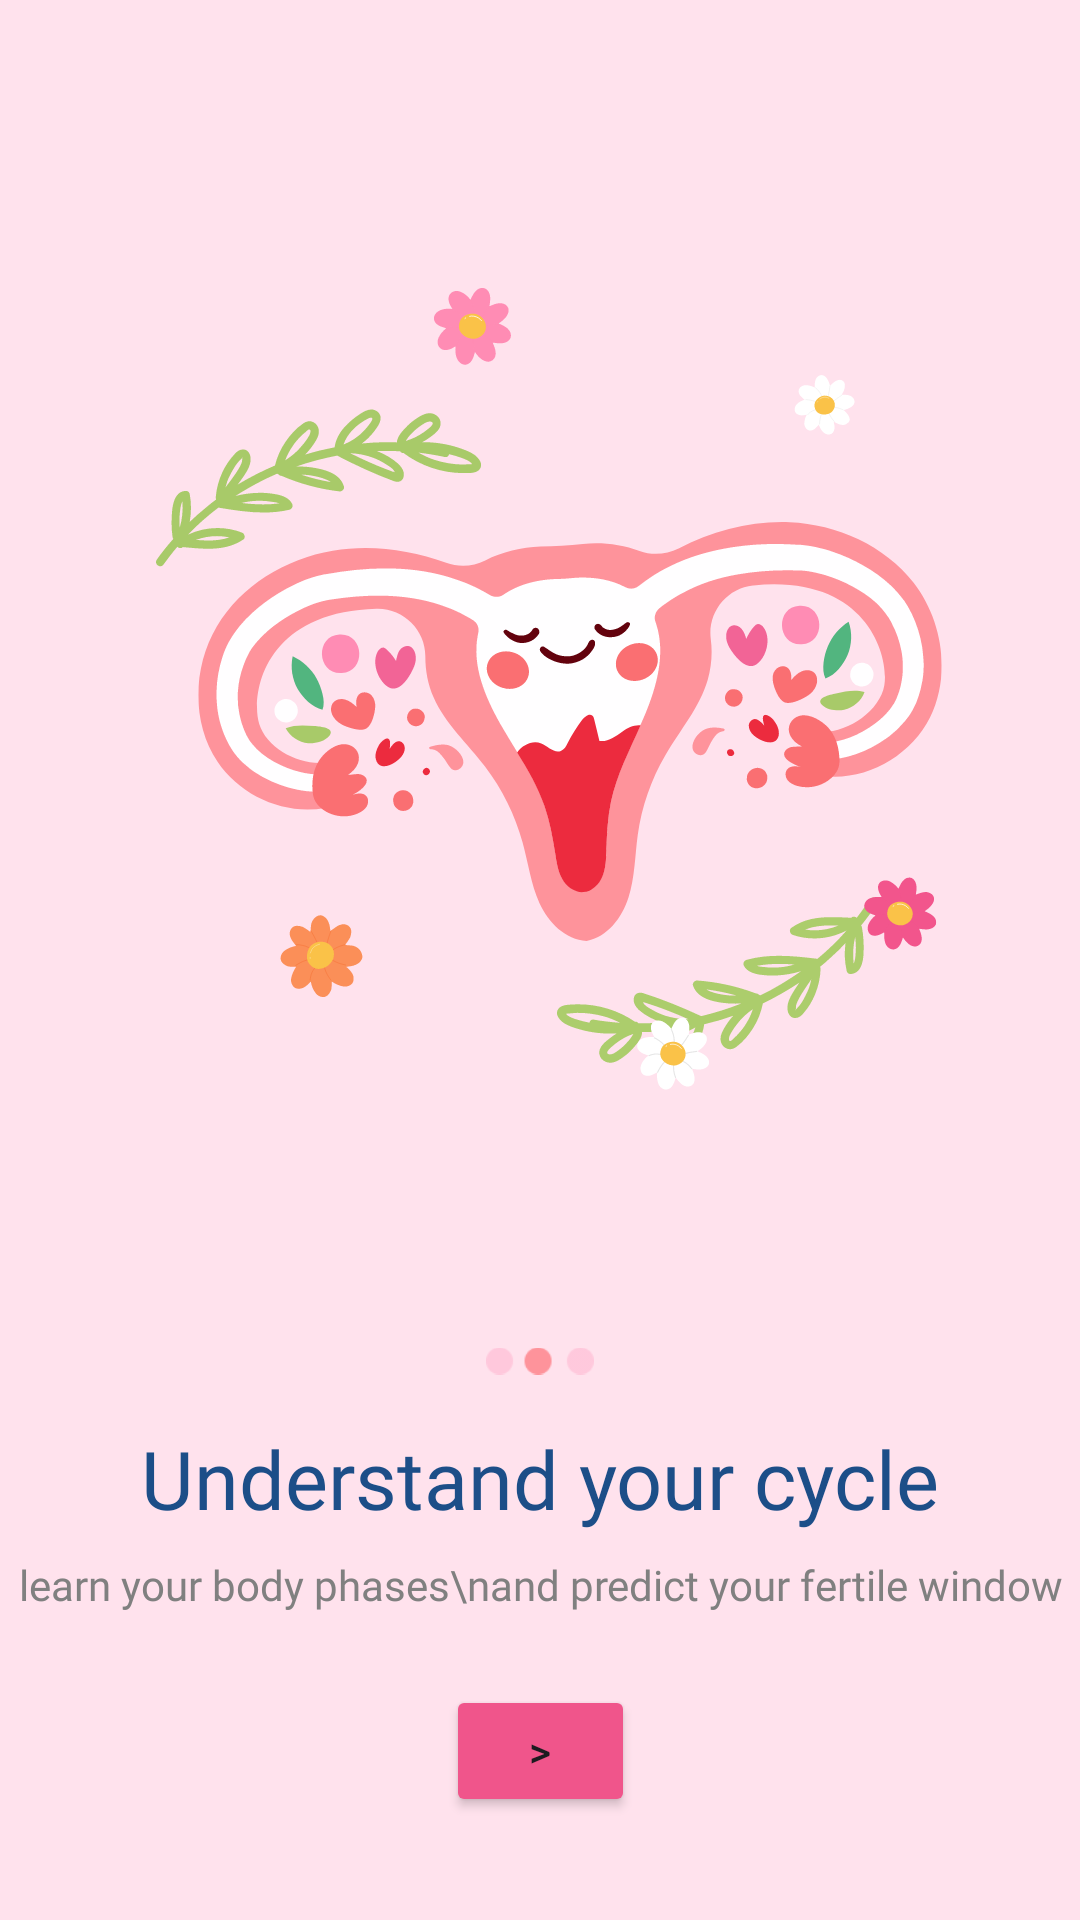

Screen size 1080px×1920px. Icon name, then its center in pixels as [x,y]:
dot: [540,1361]
